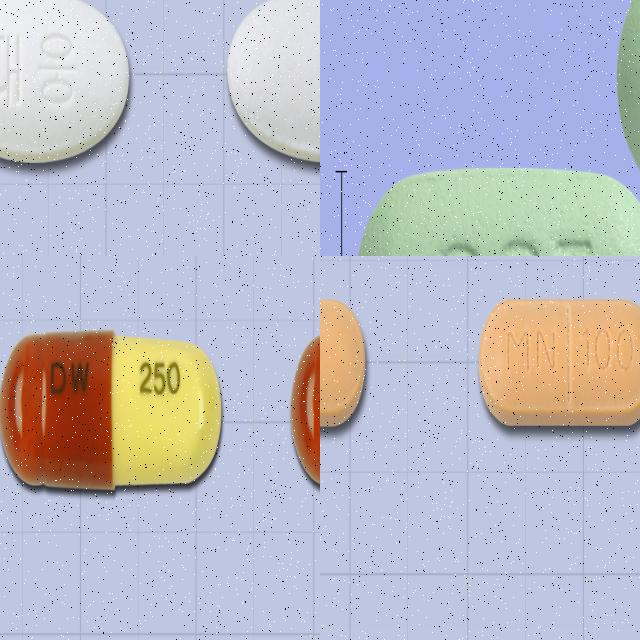Genvoya: (351, 166, 640, 256)
Gomcillin Cap: (0, 331, 223, 493)
Monocin: (479, 300, 640, 428), (320, 299, 366, 424)
Moxicle Tab-625mg: (0, 0, 128, 163), (228, 0, 320, 164)
